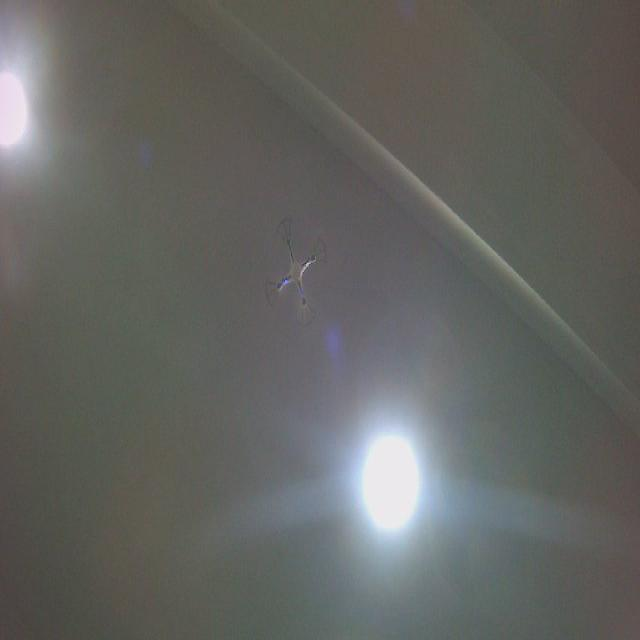drone: (262, 212, 332, 330)
